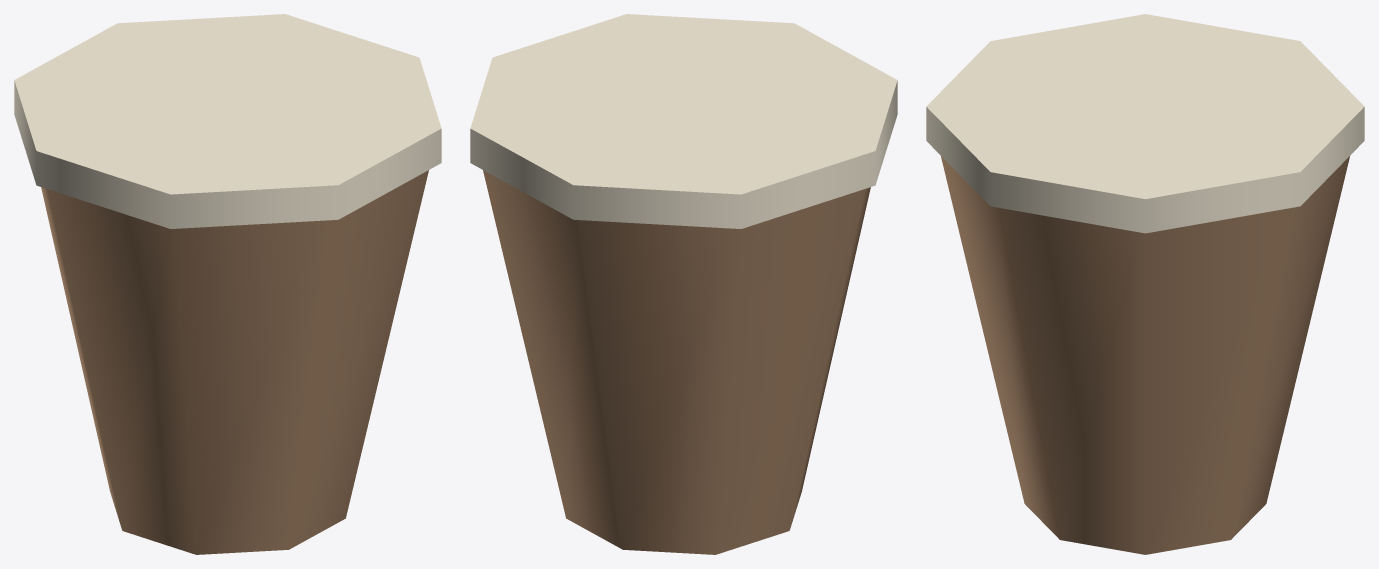
Rendered from djembe.glb.
The picture shows the model from 3 angles, left to right: view 1: azimuth 30°, elevation 25°; view 2: azimuth 150°, elevation 25°; view 3: azimuth 270°, elevation 25°; orthographic projection.
Size of the model in its own units: 0.58 by 0.58 by 0.58.
